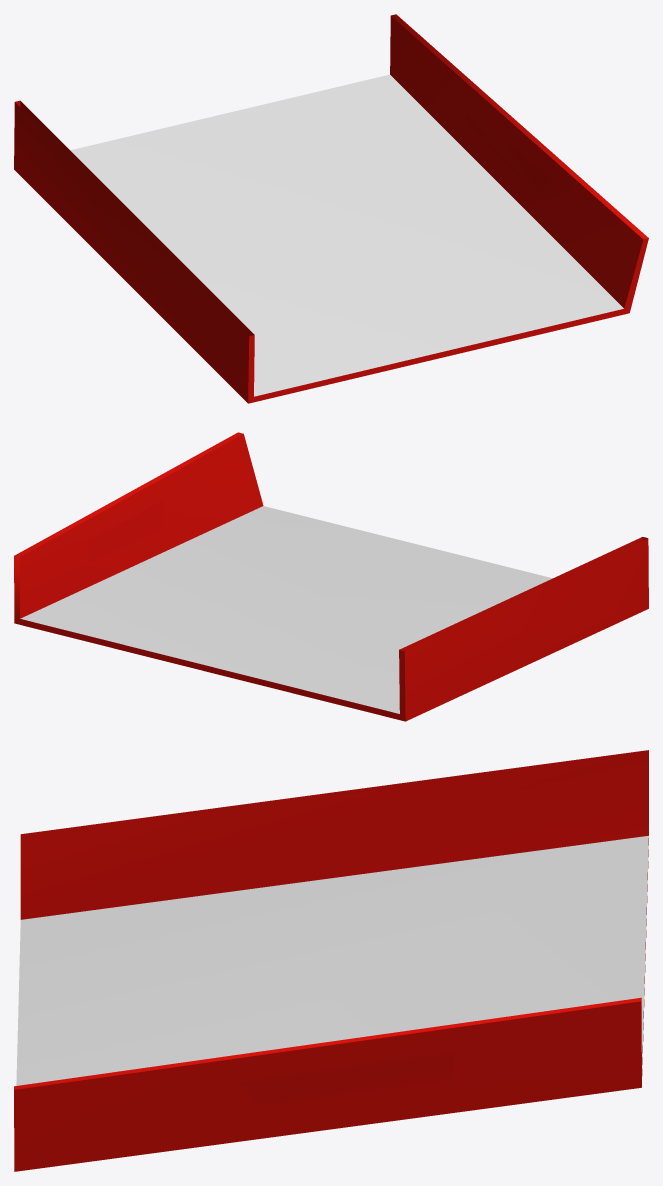
File: T_CzTwirl_Ramp.fbx
The picture shows the model from 3 angles, top to bottom: view 1: azimuth 30°, elevation 25°; view 2: azimuth 150°, elevation 25°; view 3: azimuth 270°, elevation 25°; orthographic projection. The views are drawn at different scales.
Parts seen in each view (by area): view 1: T_CzTwirl_P.001; view 2: T_CzTwirl_P.001; view 3: T_CzTwirl_P.001.
Boxes of the visible parts, <box> form: T_CzTwirl_P.001: <box>14,14,648,403</box>; T_CzTwirl_P.001: <box>14,432,648,721</box>; T_CzTwirl_P.001: <box>14,750,648,1171</box>.
Bounding box in the file's own units: 1000 × 313 × 1032.
